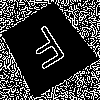F: (21, 23, 74, 79)
